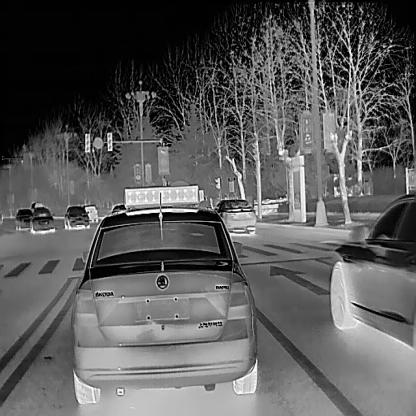car: (74, 185, 258, 405), (329, 192, 415, 348), (214, 197, 255, 234), (29, 206, 54, 233), (63, 205, 90, 229), (14, 207, 31, 229), (82, 202, 98, 222)
